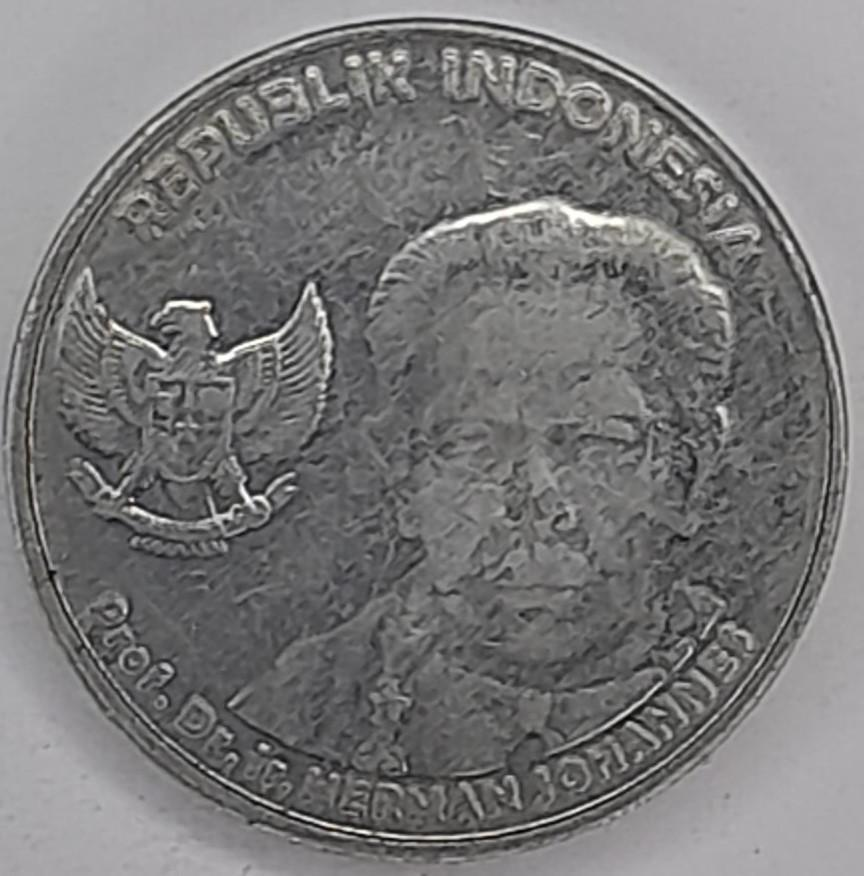coin_100_e2016: (0, 10, 854, 867)
